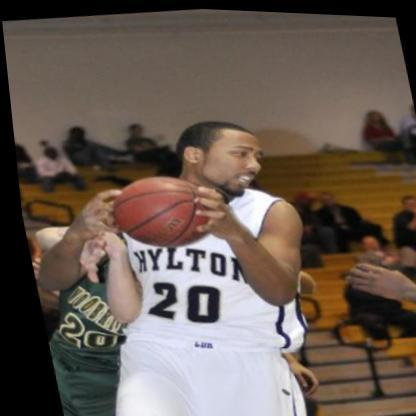basketball: (95, 164, 218, 252)
